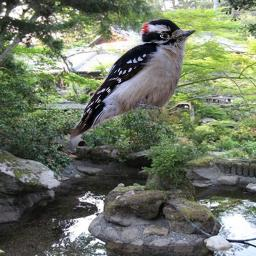Woodpecker: (70, 19, 197, 142)
